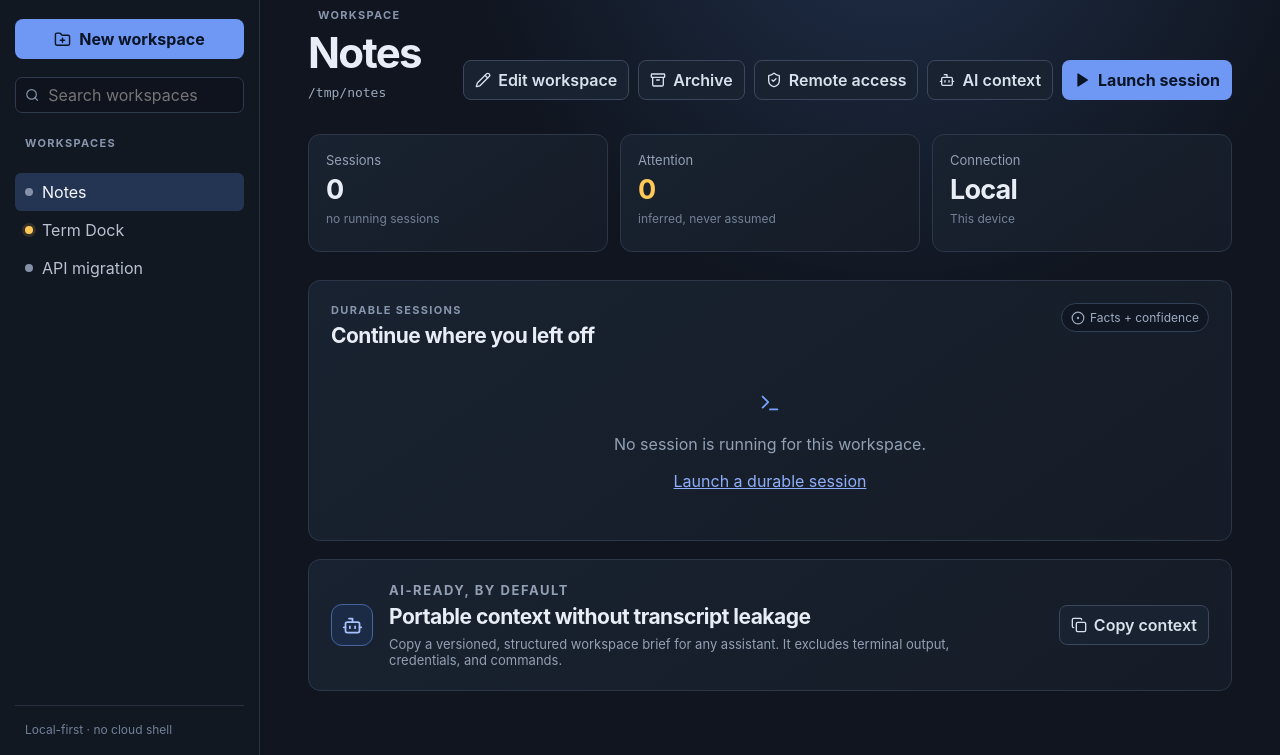
Test: workspace dashboard › opens a newly launched session instead of leaving its PTY hidden
Step 1. Click the button "API migration" → click(130, 268), box [15,249,244,287]
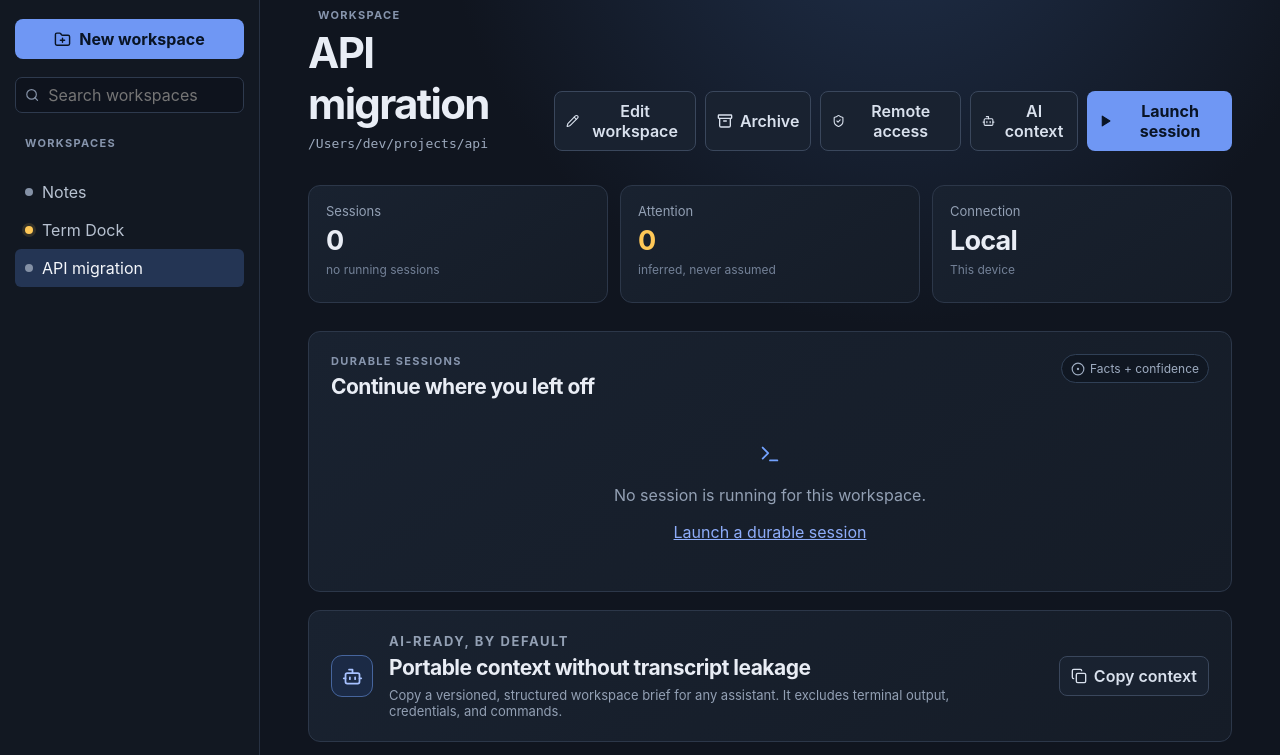
Now the heading "API migration" is shown, box [308,27,489,129]
Step 2. Click the button "Launch session" → click(1160, 121), box [1087,91,1232,151]
(page scrolled)
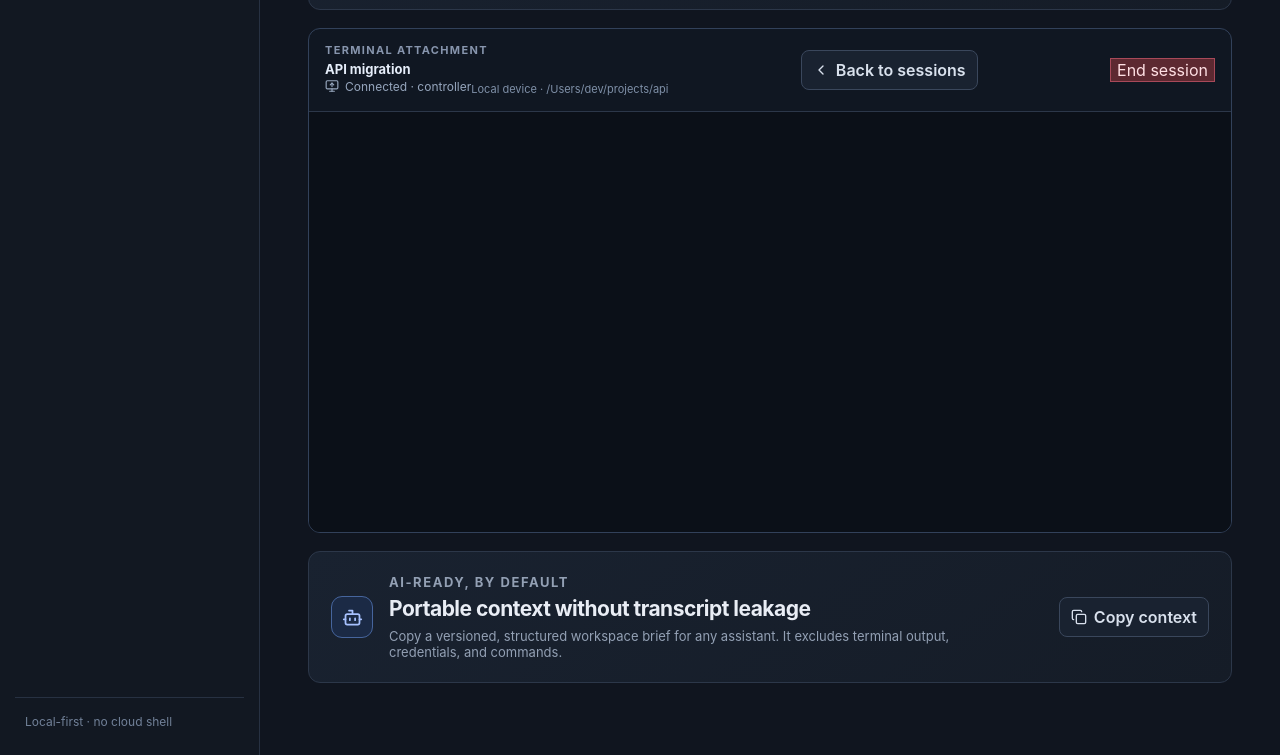
Now the element named "Terminal session" is shown, box [308,28,1232,533]
